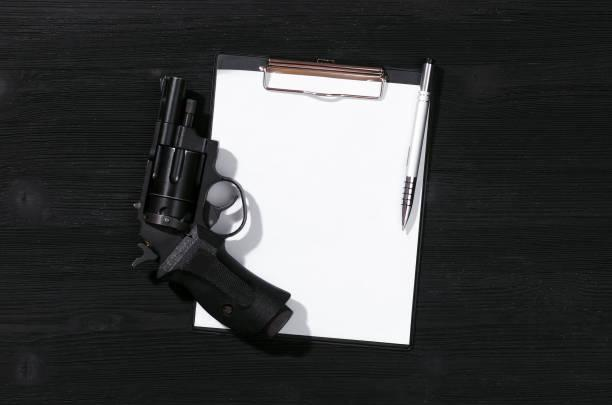weapon: (127, 71, 294, 341)
